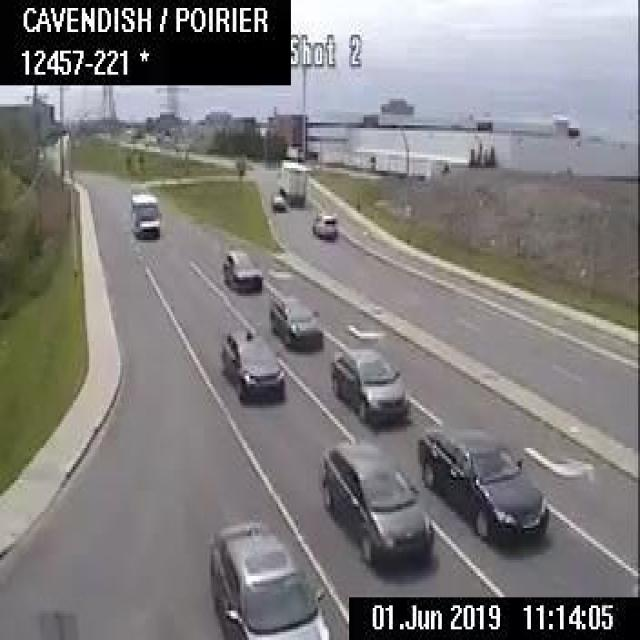vehicle: (416, 424, 549, 539), (207, 518, 331, 638), (316, 440, 433, 563), (328, 344, 408, 421), (218, 330, 284, 402), (267, 293, 322, 347), (221, 248, 262, 291), (278, 157, 306, 206), (130, 191, 160, 236), (311, 211, 336, 237), (271, 191, 285, 208)
